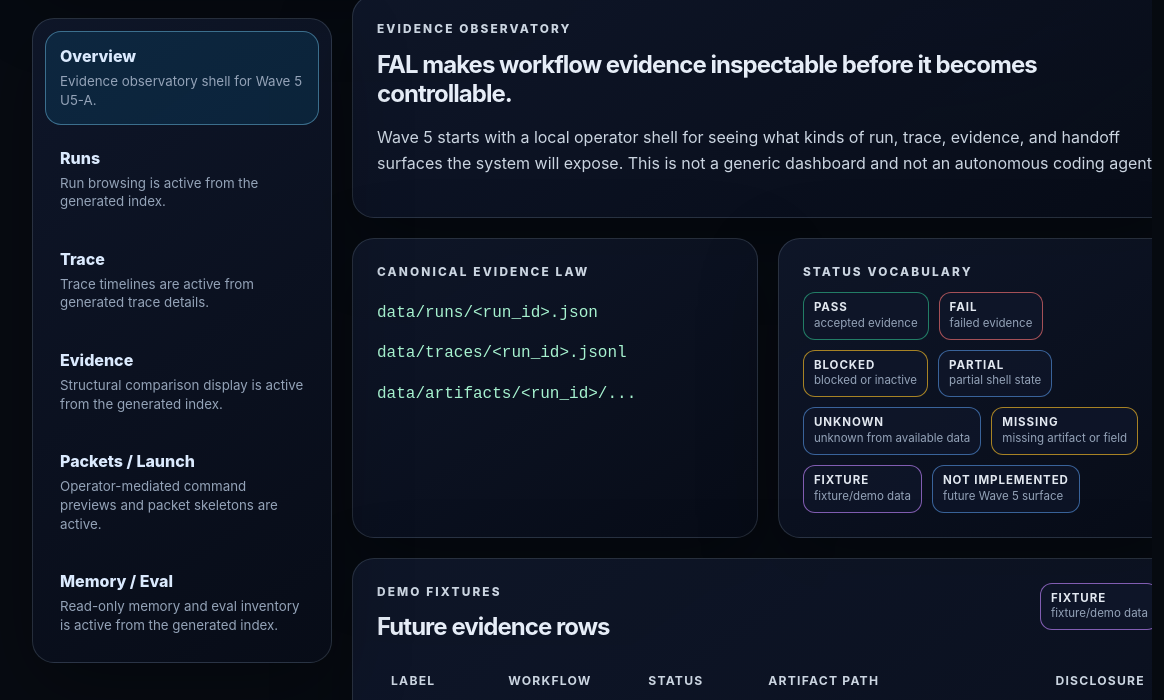
U5-A workbench shell › shows H2 warning and gate facts in the Evidence UI
(page scrolled)
Click the button "Evidence" at (182, 382), box 45,335 -> 319,428
(page scrolled)
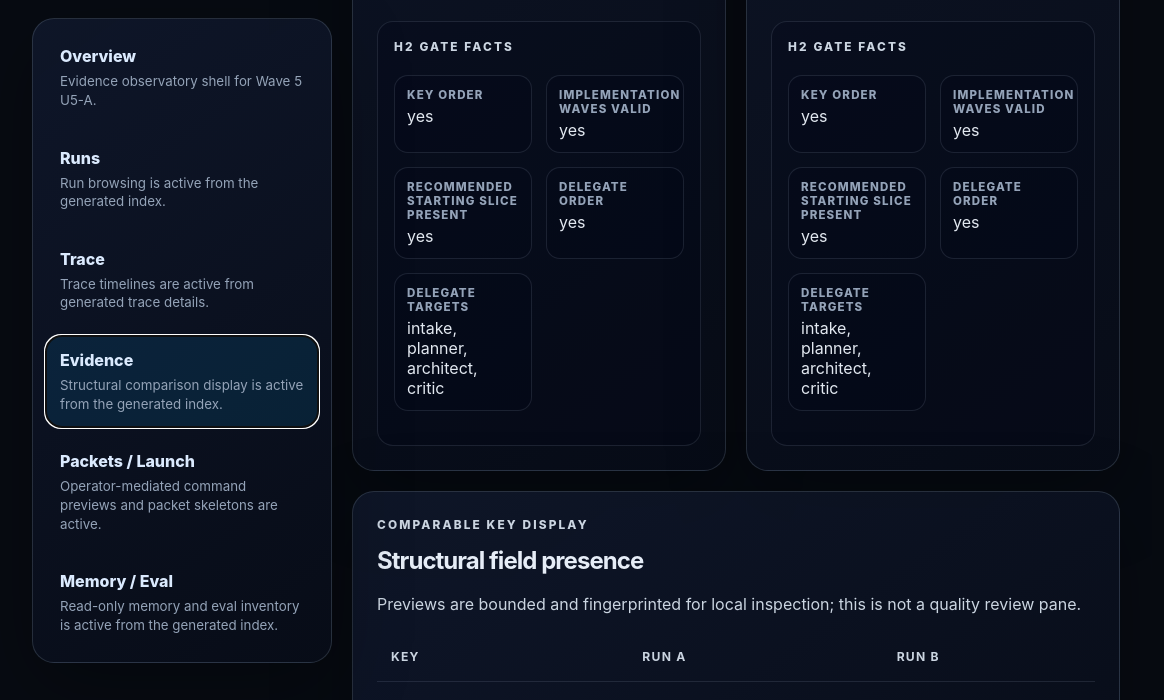
Expected: the text "H2 gate facts" below "data/artifacts/h2-a" is shown, 394,40 -> 514,54
Expected: the text "Key order" below "data/artifacts/h2-a" is shown, 407,88 -> 484,102
Expected: the text "Implementation waves valid" below "data/artifacts/h2-a" is shown, 559,88 -> 680,116
